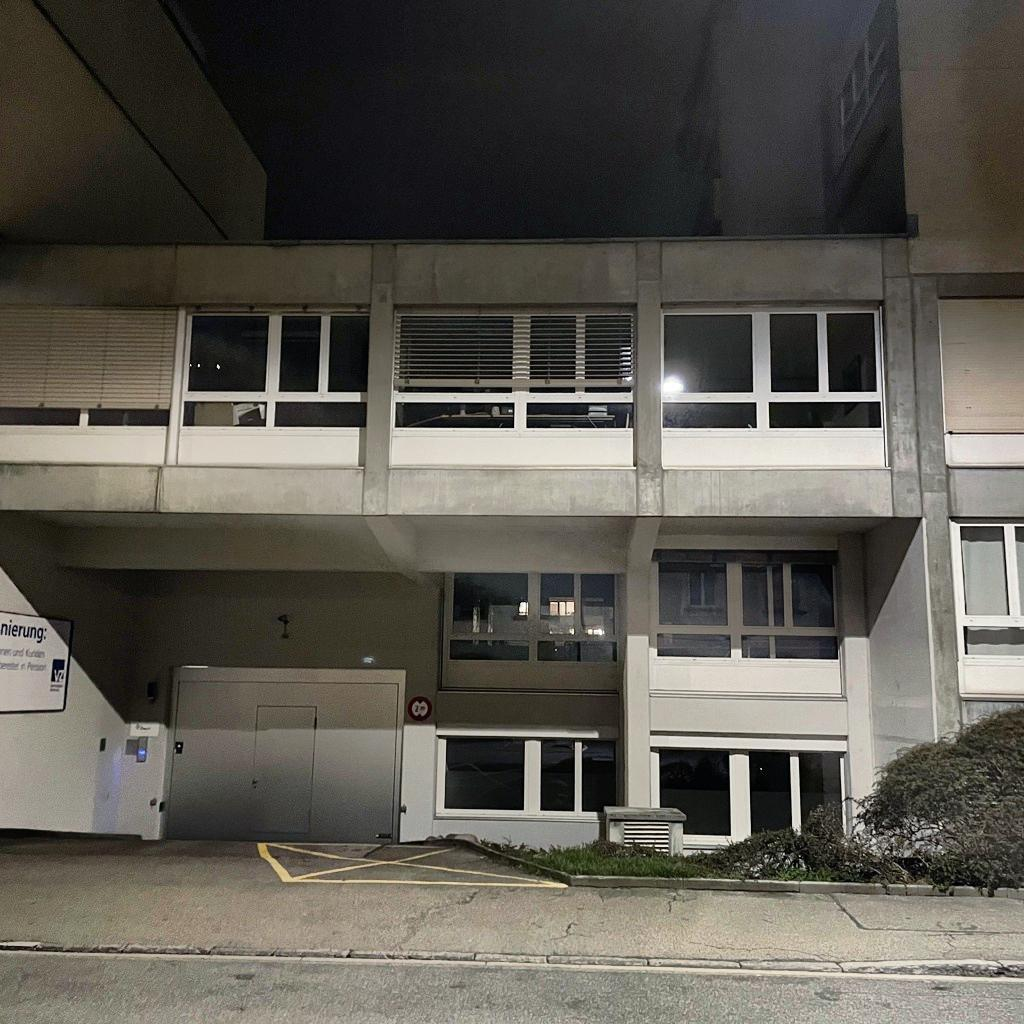facade: (0, 0, 1024, 853)
street: (0, 831, 1024, 1024)
vegetation: (473, 709, 1024, 889)
window: (390, 306, 636, 430), (659, 304, 888, 437), (180, 307, 371, 432), (0, 302, 179, 430), (650, 735, 851, 848), (441, 570, 620, 691), (653, 549, 839, 659), (435, 725, 623, 821), (947, 517, 1024, 697), (939, 296, 1024, 434), (833, 17, 893, 156)
